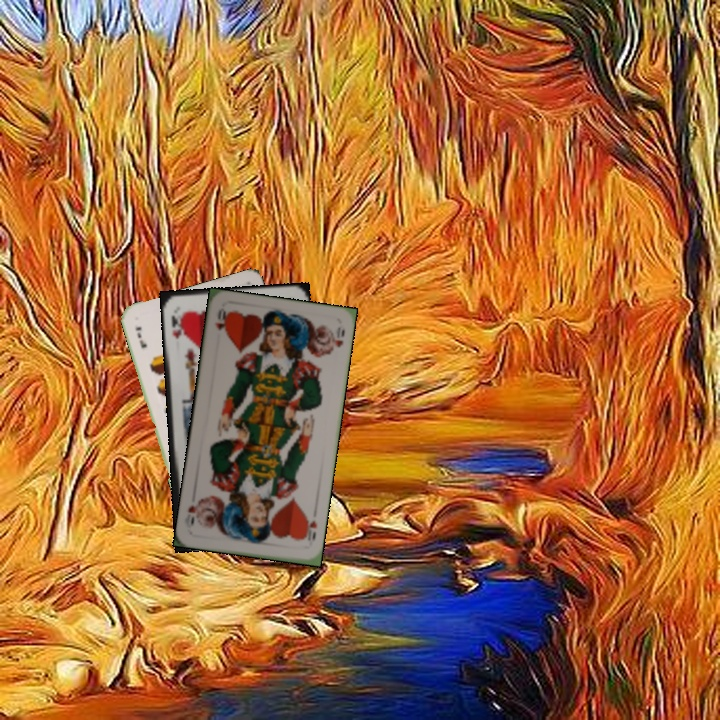E7: (131, 322, 150, 351)
HK: (167, 308, 186, 341)
HO: (300, 512, 319, 543), (211, 304, 230, 333)
